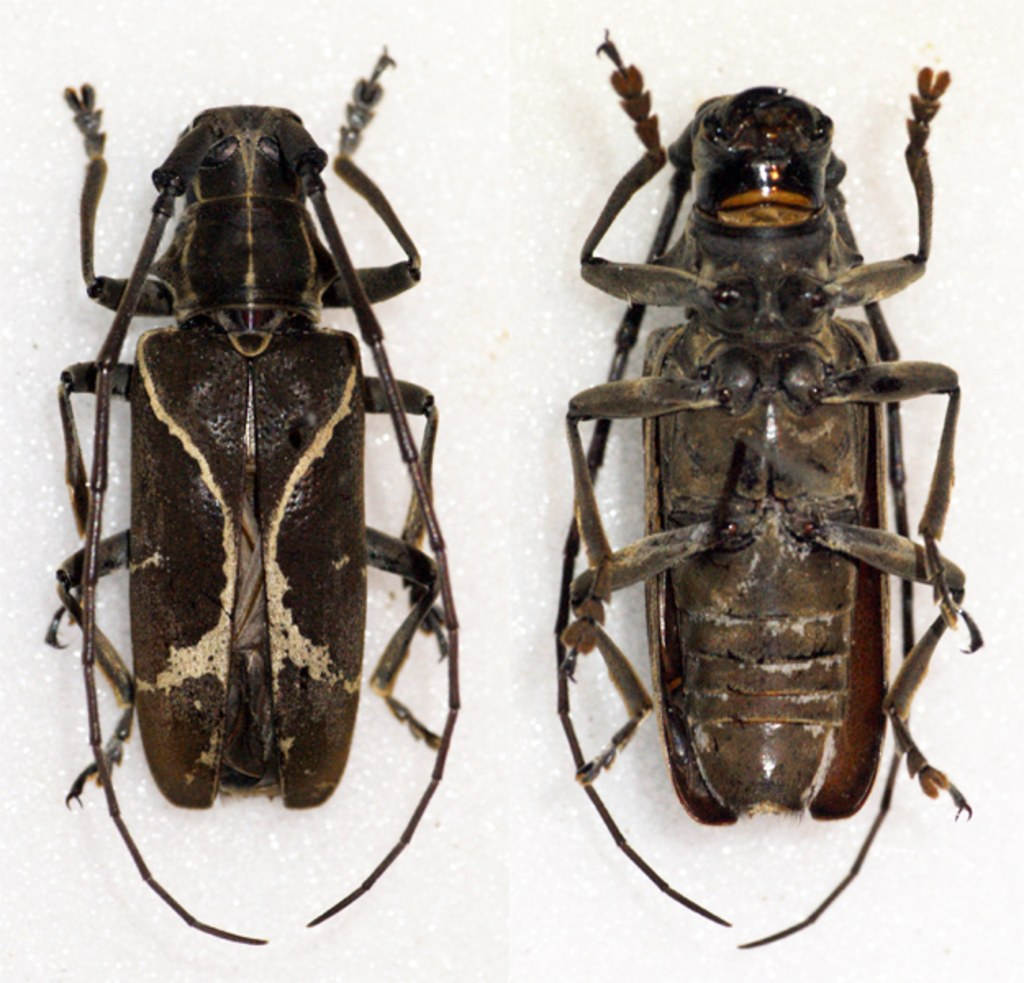insect: (552, 18, 985, 952), (41, 41, 465, 944)
